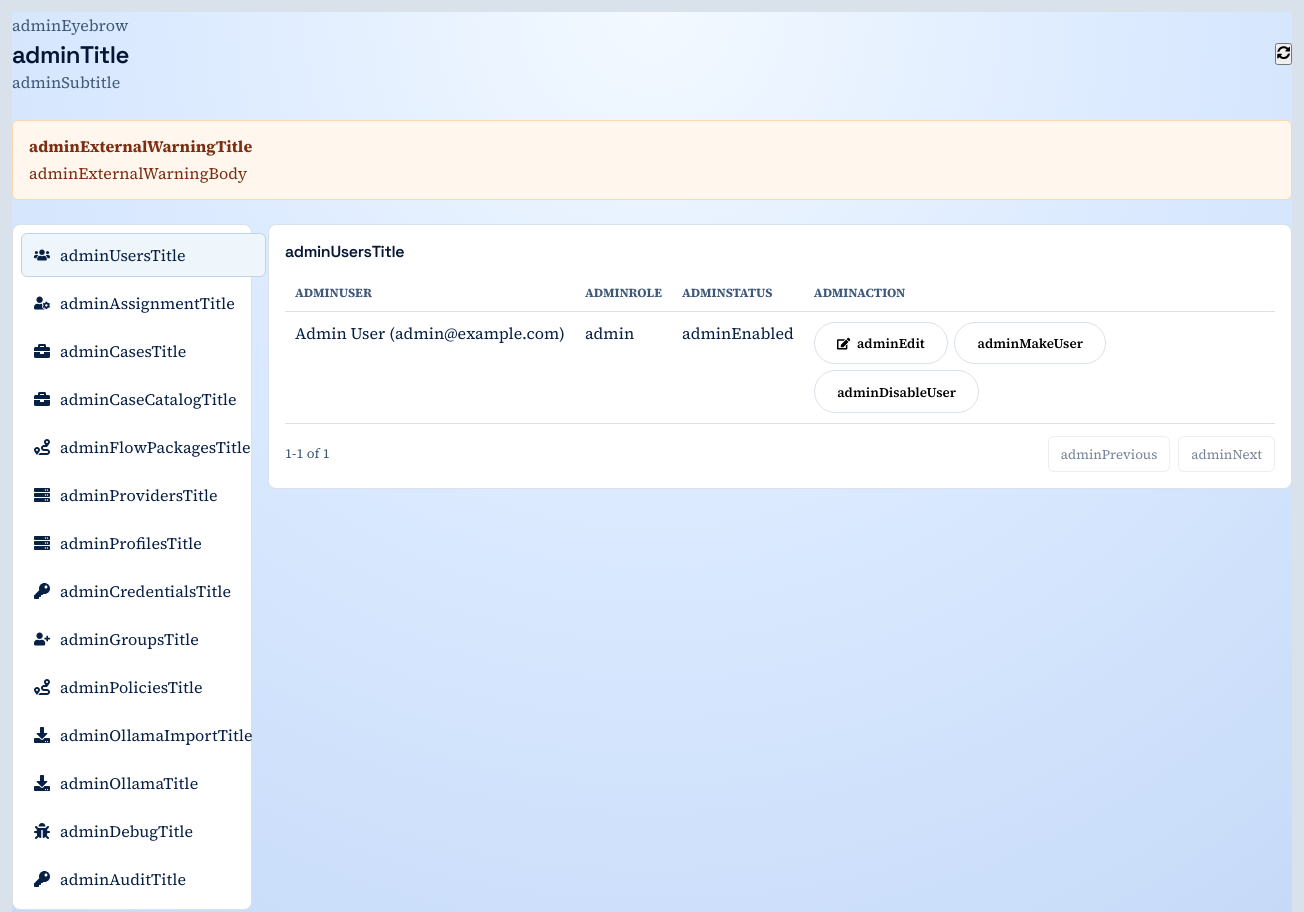
Test: AIModelAdmin Ollama management › renders Ollama inventory and disables remove for protected default models
Click the button "adminOllamaTitle". click: (143,783)
box: x1=21 y1=761 x2=266 y2=805
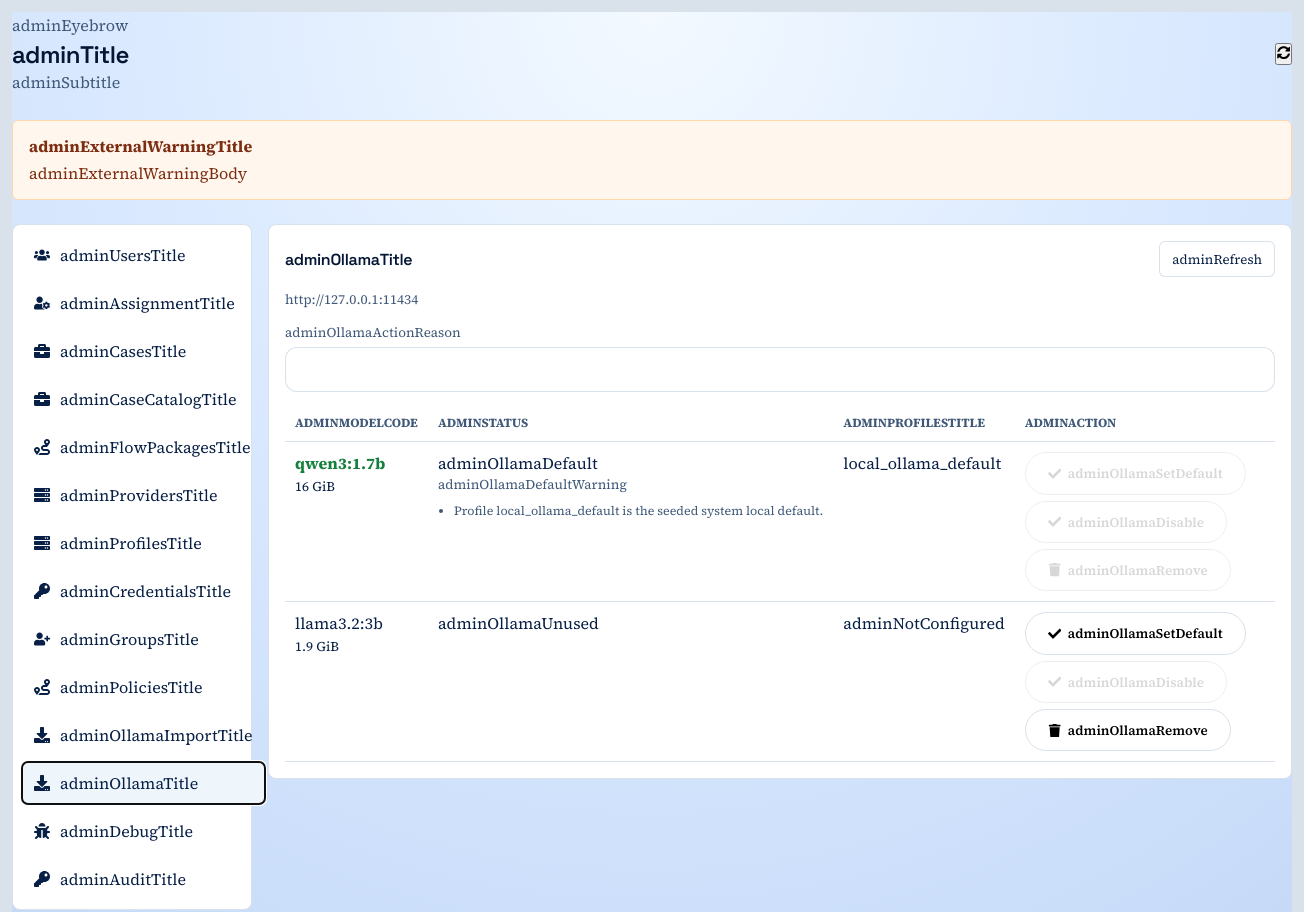
Check: the text "qwen3:1.7b" is shown, box x1=295 y1=452 x2=385 y2=474
Check: the text "llama3.2:3b" is shown, box x1=295 y1=612 x2=383 y2=634
Check: the text "local_ollama_default" is shown, box x1=833 y1=442 x2=1015 y2=602
